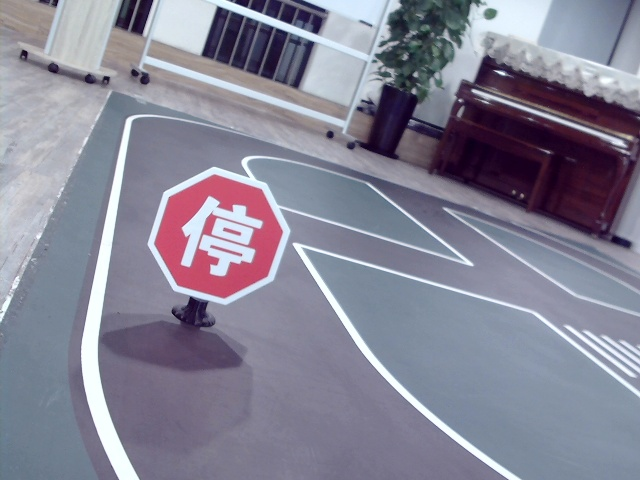stop: (183, 192, 256, 276)
